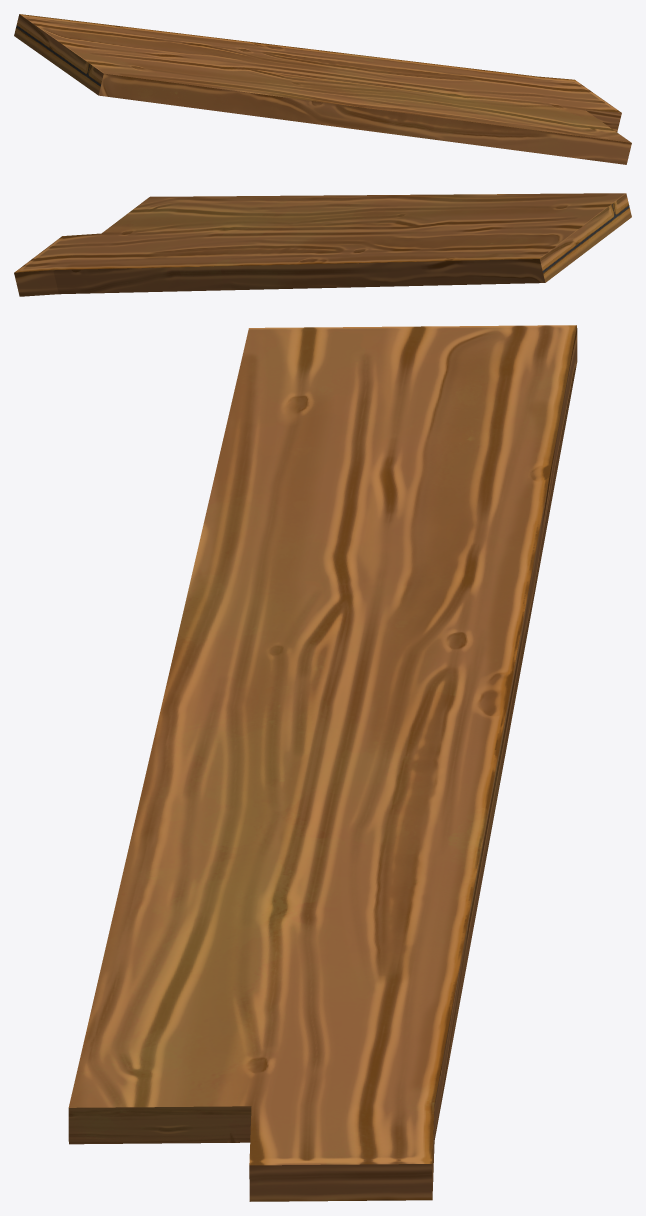
The picture shows the model from 3 angles, top to bottom: view 1: azimuth 30°, elevation 25°; view 2: azimuth 150°, elevation 25°; view 3: azimuth 270°, elevation 25°; orthographic projection. The views are drawn at different scales.
Visible parts, largest first — view 1: Cube.1150; view 2: Cube.1150; view 3: Cube.1150.
Part boxes in pixels (<box>): Cube.1150: <box>14,14,631,164</box>; Cube.1150: <box>14,193,631,296</box>; Cube.1150: <box>68,325,577,1201</box>.
Bounding box in the file's own units: 255 × 86.61 × 107.
Materials: 1 (1 with a texture image).
